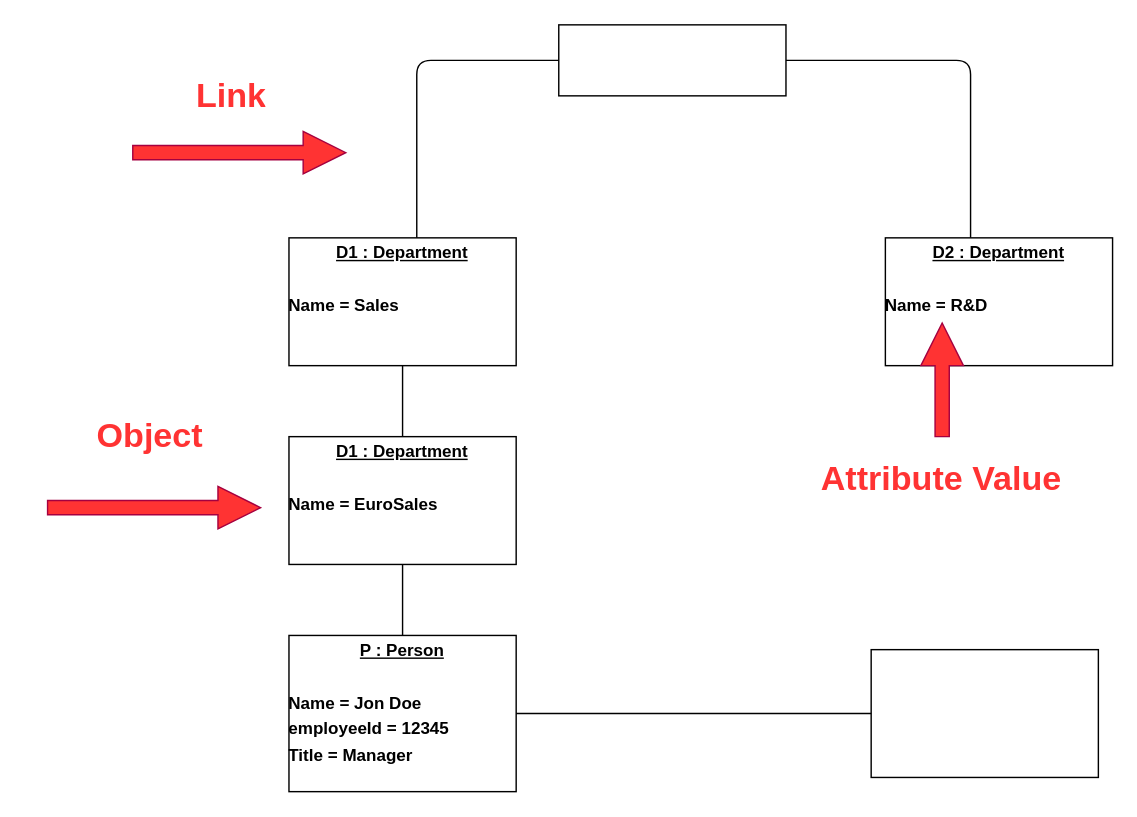
Image size: 1137x817. Some labels were removed from this diagram. Here are the shapes that lost their labels. From the top down, the centre of each, then its label:
At [671,59]: "C : Company".
At [984,712]: ": ContactInformation Address = 64 Penny Lane".
